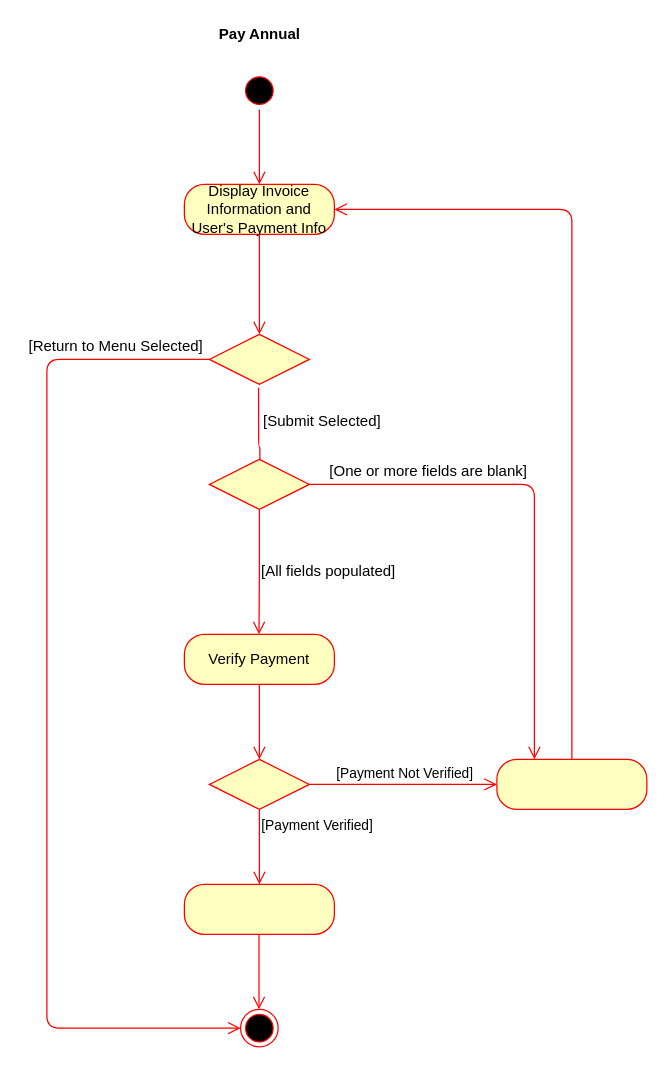
Some shapes in this 669 by 1069 pixel diagram are drawn without their labels. Here are the shapes that lost their labels. From the top down, the centre of each, then its label:
(x=571, y=783): Flash Error Message
(x=258, y=908): Flash Success Message
